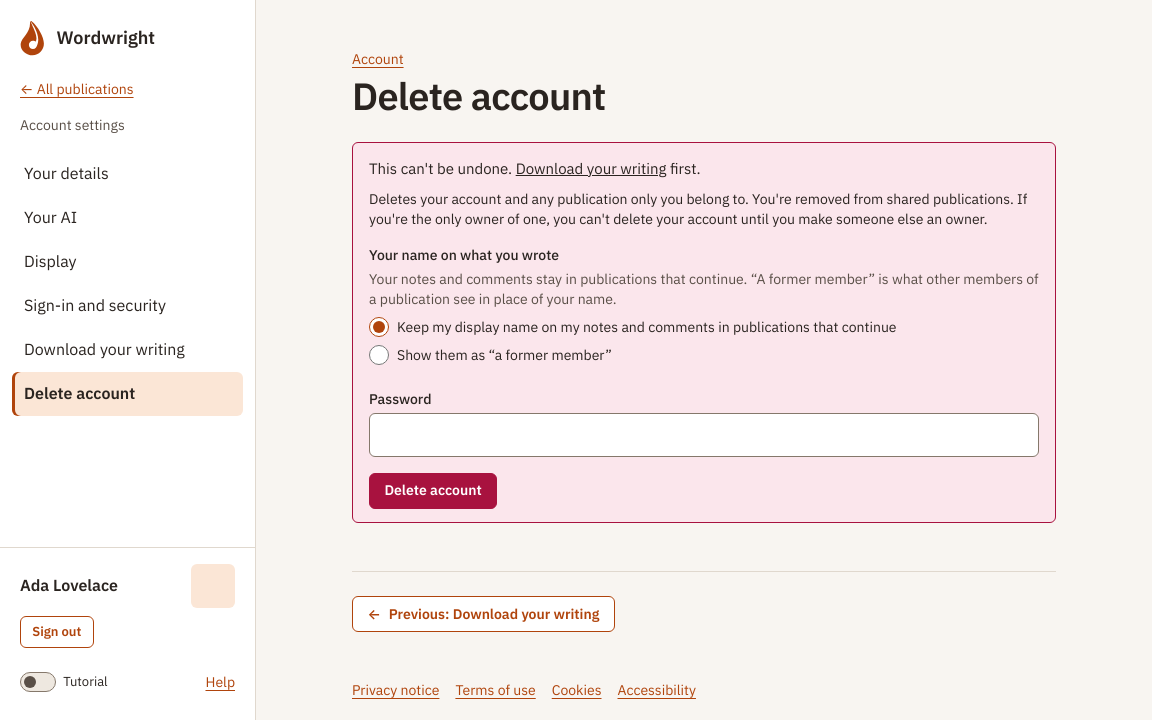
Test: AccountView › keeps the account if the person cancels the confirmation
The image size is (1152, 720).
Type "my password 123" into the password field labelled "Password" at (704, 435), box [369,413,1039,457]
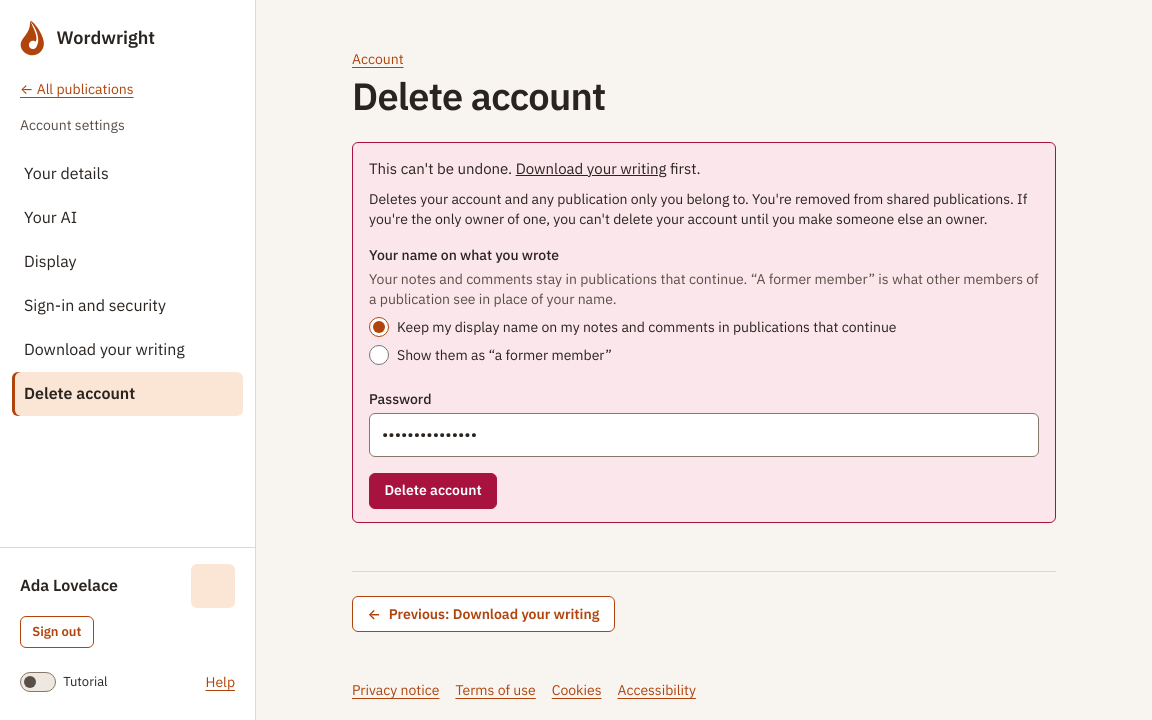
Click the button "Delete account" at (433, 491), box [369,473,497,509]
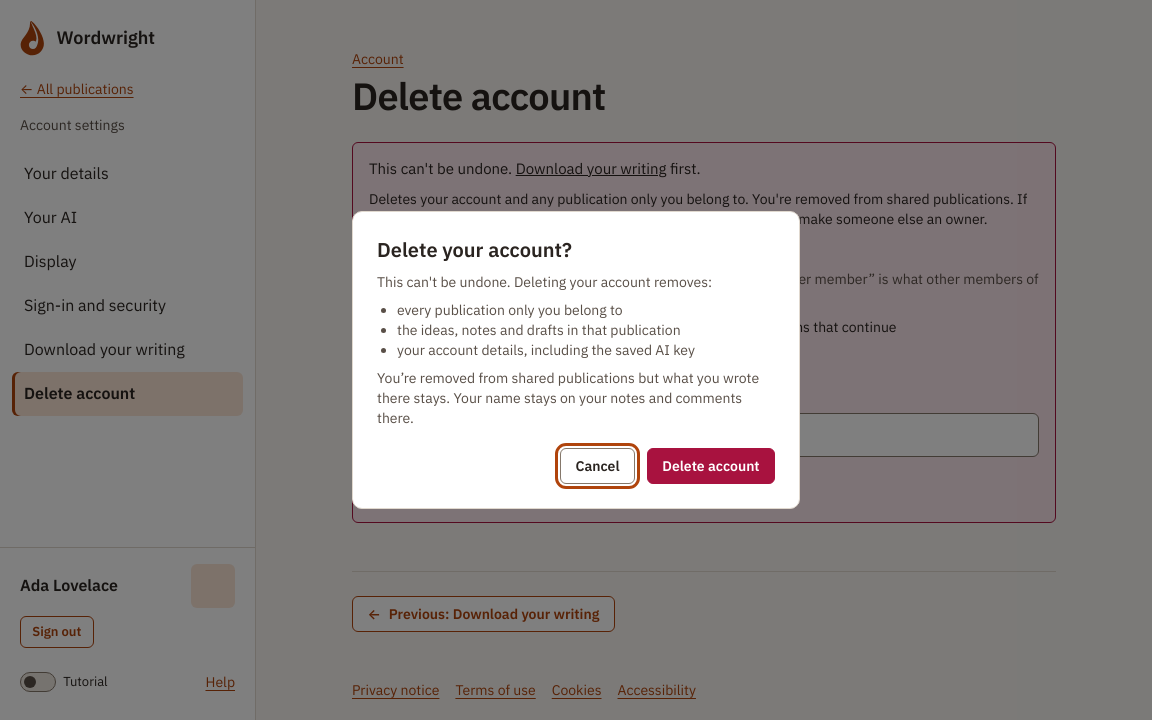
Click the button "Cancel" at (597, 466), box [560,448,635,484]
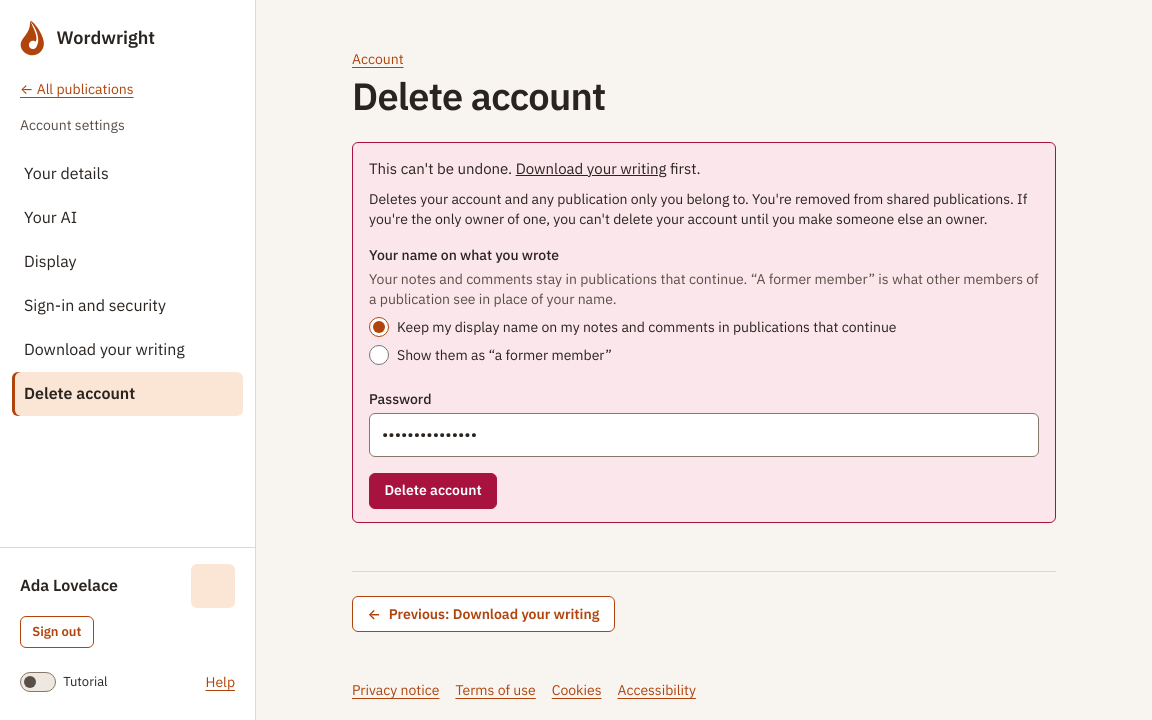
Expected: the dialog is gone
Click the button "Delete account" at (433, 491), box [369,473,497,509]
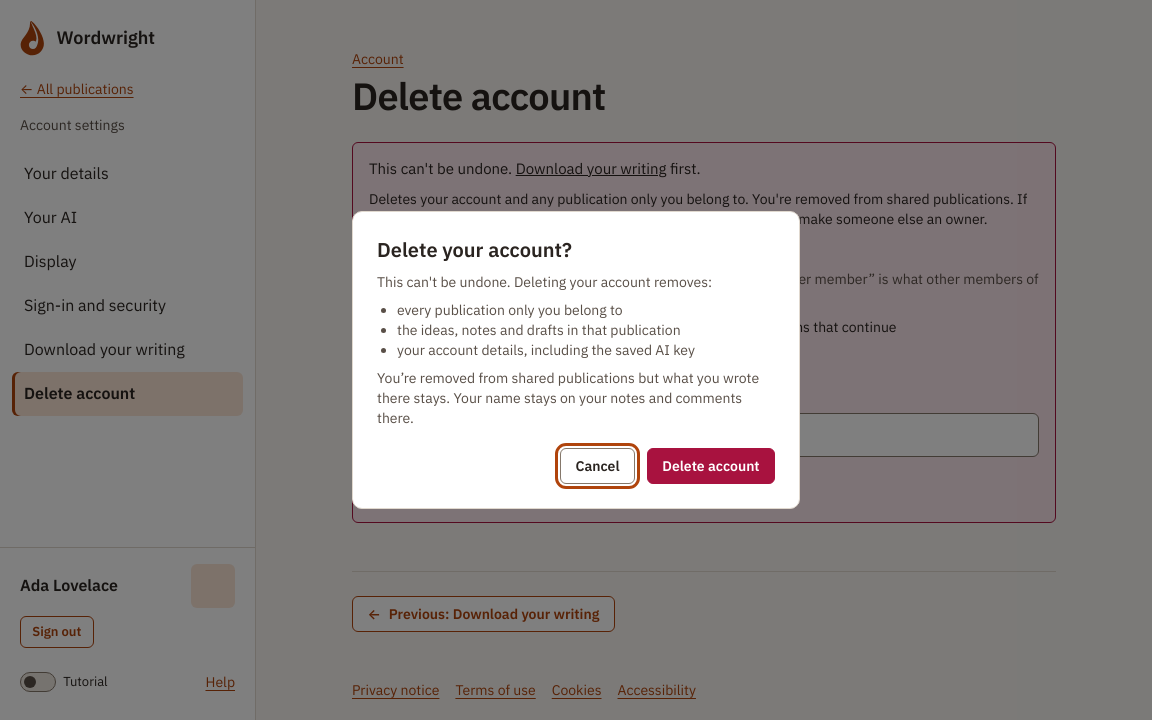
Press Escape
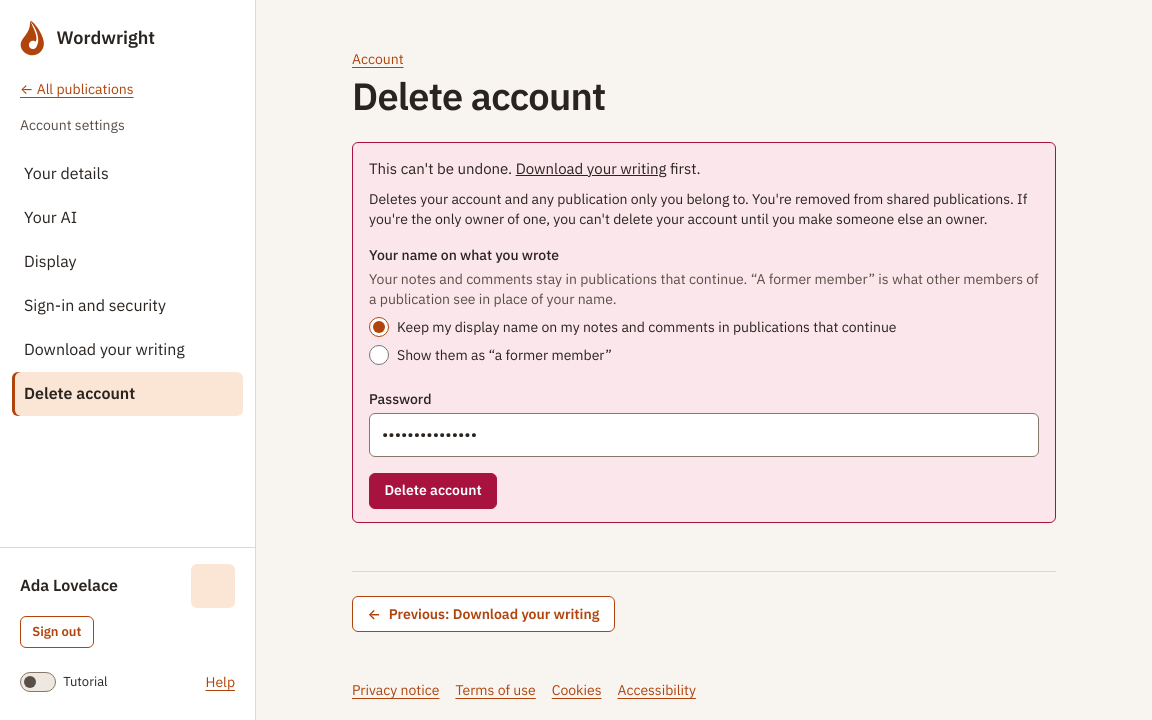
Expected: the dialog is gone
